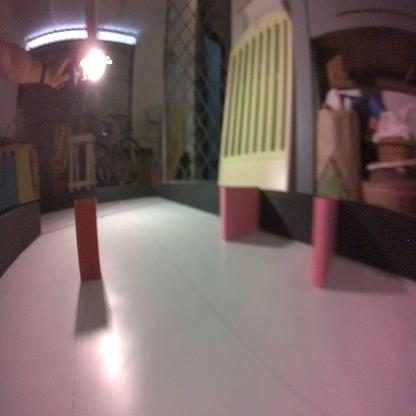magenta: (308, 193, 341, 296), (218, 183, 260, 240)
red: (72, 195, 102, 284)
